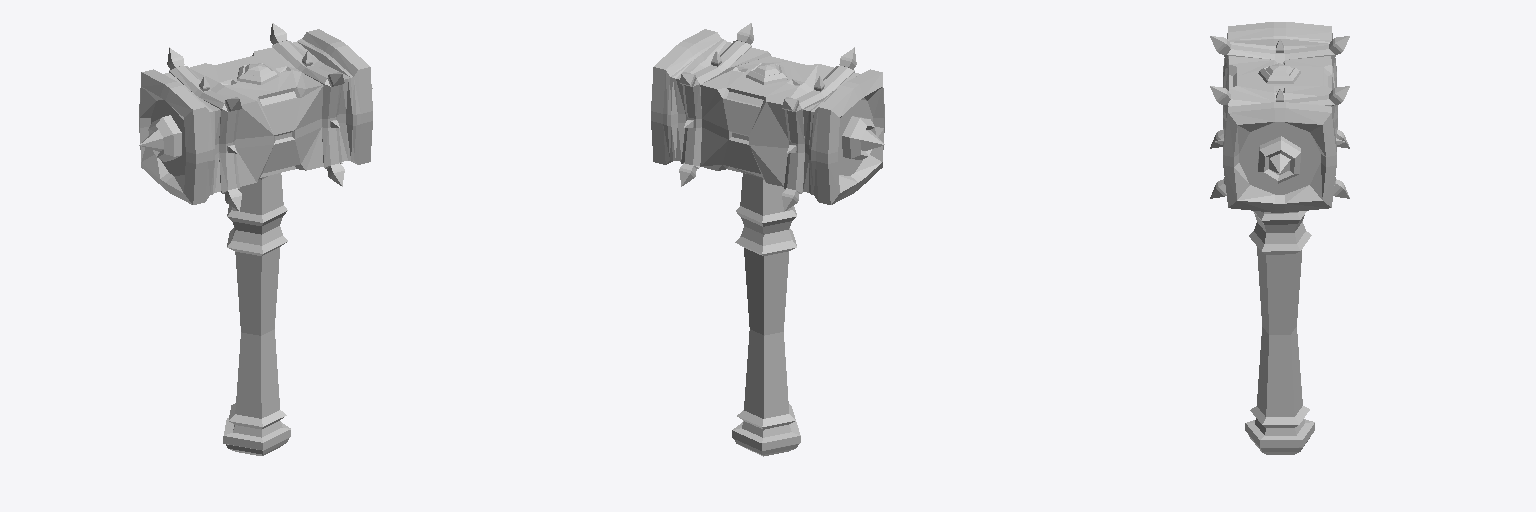
Rendered from hammer_obj.obj.
The picture shows the model from 3 angles: view 1: azimuth 30°, elevation 25°; view 2: azimuth 150°, elevation 25°; view 3: azimuth 270°, elevation 25°; orthographic projection.
Visible parts, largest first — view 1: hammer; view 2: hammer; view 3: hammer.
Boxes of the visible parts, box(x1,y1,x2,y2) form: hammer: box(139, 23, 372, 455); hammer: box(651, 23, 884, 456); hammer: box(1210, 22, 1349, 454).
Size of the model in its own units: 38.82 by 61.87 by 20.19.